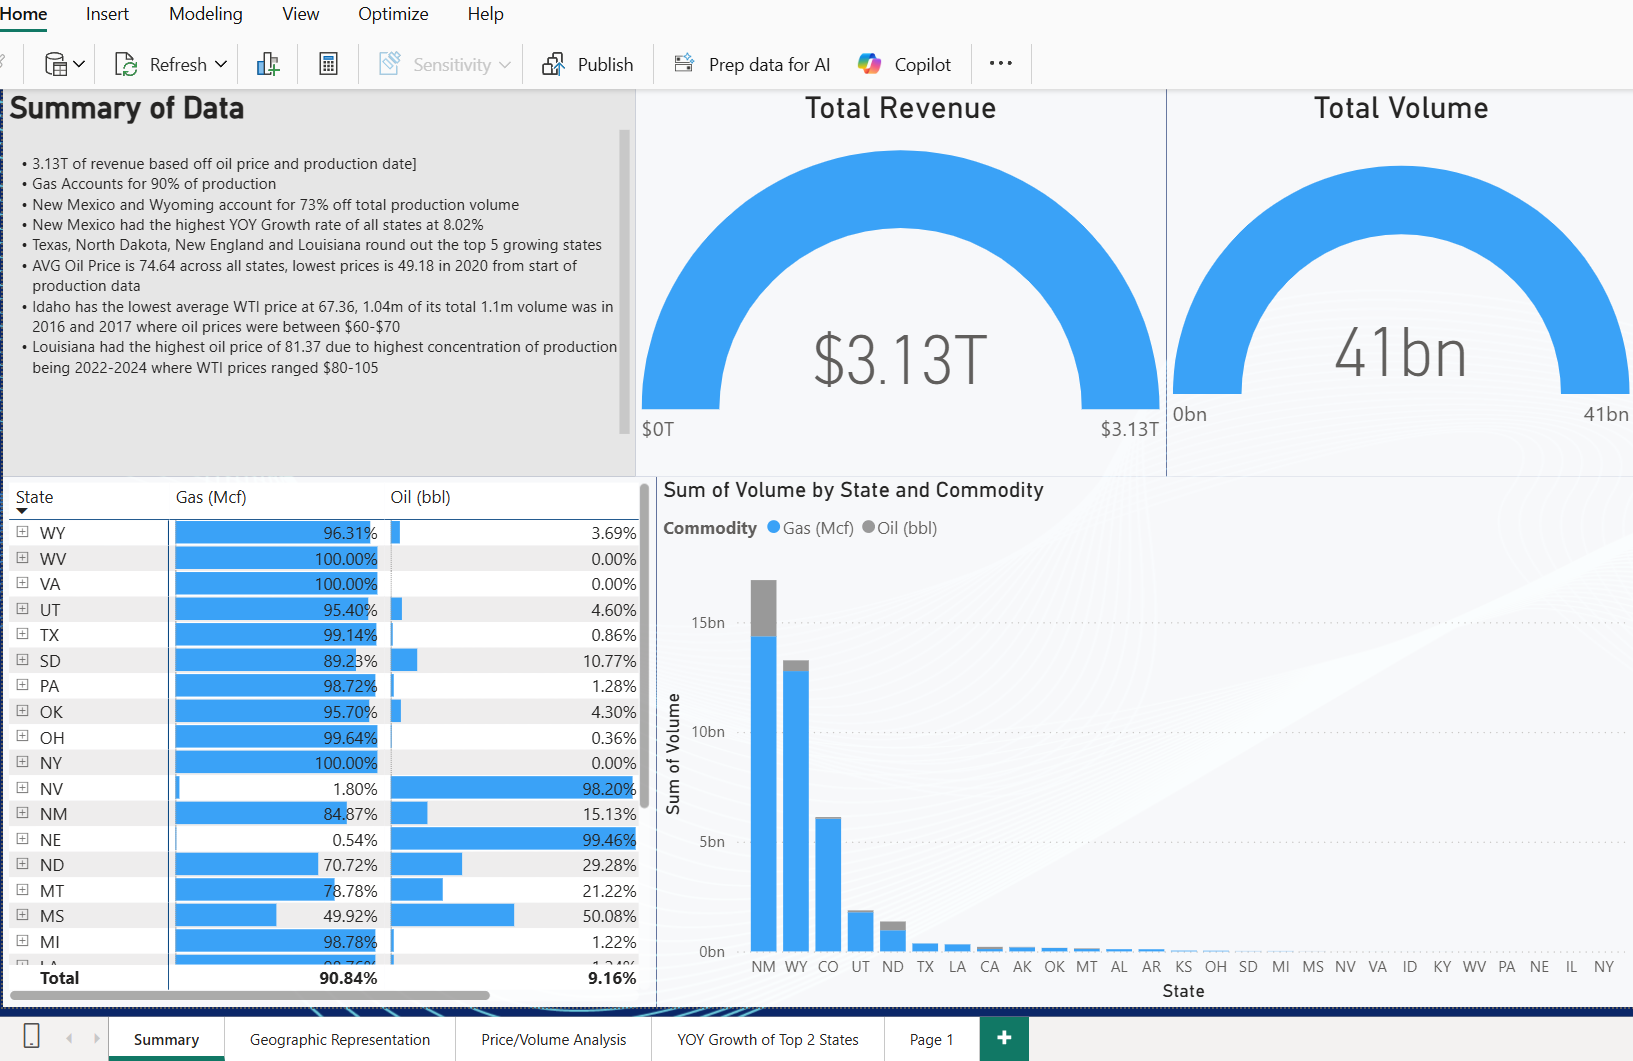

This screenshot's page, from the dashboard's own definition file:
{"tool":"powerbi","page":{"name":"Summary","canvas":[1280,720],"ordinal":0},"visuals":[{"type":"columnChart","fields":{"Category":["OGORBcsv.State"],"Series":["OGORBcsv.Commodity"],"Y":["Sum(OGORBcsv.Volume)"]},"box":[512,304,768,416],"z":0},{"type":"gauge","title":"Total Revenue","fields":{"MaxValue":["OGORBcsv (2).Money Spent"],"Y":["OGORBcsv (2).Money Spent"]},"box":[496,0,416,304],"z":1000},{"type":"actionButton","box":[0,0,100,40],"z":2000},{"type":"pivotTable","fields":{"Rows":["OGORBcsv.State","OGORBcsv.County"],"Values":["Sum(OGORBcsv.Volume)"],"Columns":["OGORBcsv.Commodity"]},"box":[0,304,512,416],"z":3000},{"type":"actionButton","box":[0,0,100,40],"z":4000},{"type":"actionButton","box":[0,0,96,32],"z":5000},{"type":"textbox","title":"Summary of Data","box":[0,0,496,304],"z":6000},{"type":"gauge","title":"Total Volume","fields":{"Y":["Sum(OGORBcsv.Volume)"],"MaxValue":["Sum(OGORBcsv.Volume)"]},"box":[912,0,368,304],"z":7000}]}

Visuals, with their boxes on the page's 1280x720 design canvas (x1, y1, x2, y2). These are canvas units, not pixel positions in the 1633x1061 screenshot, which may show the page scaled, cropped or inside an application window:
columnChart - OGORBcsv.State x OGORBcsv.Commodity: {"left": 512, "top": 304, "right": 1280, "bottom": 720}
"Total Revenue" gauge: {"left": 496, "top": 0, "right": 912, "bottom": 304}
actionButton: {"left": 0, "top": 0, "right": 100, "bottom": 40}
pivotTable - OGORBcsv.State x OGORBcsv.County: {"left": 0, "top": 304, "right": 512, "bottom": 720}
actionButton: {"left": 0, "top": 0, "right": 100, "bottom": 40}
actionButton: {"left": 0, "top": 0, "right": 96, "bottom": 32}
"Summary of Data" textbox: {"left": 0, "top": 0, "right": 496, "bottom": 304}
"Total Volume" gauge: {"left": 912, "top": 0, "right": 1280, "bottom": 304}
